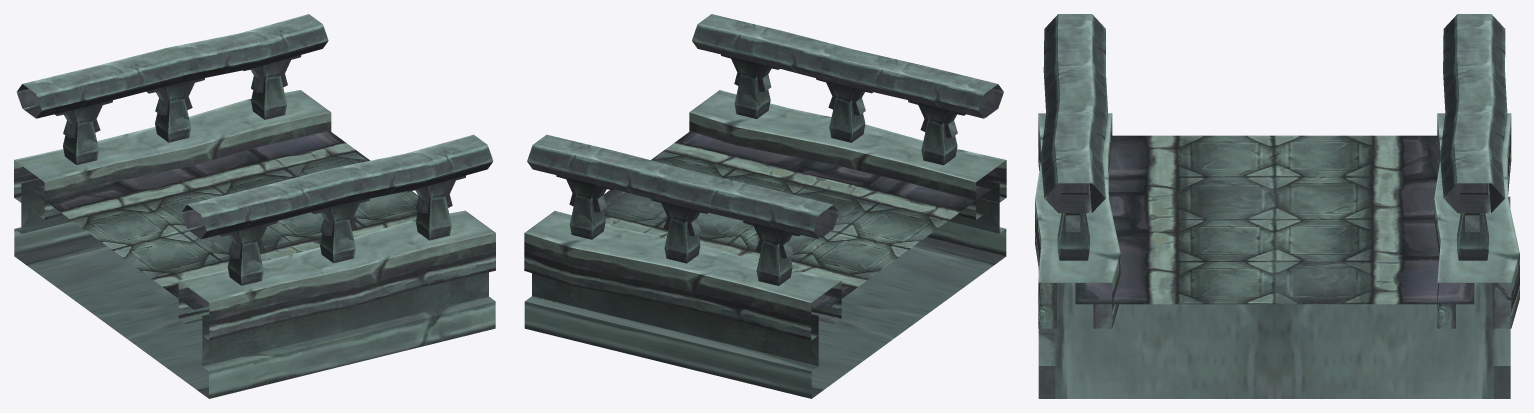
Rendered from crypt_bridge_straight_02.fbx.
3 renders of one model, left to right at view 1: azimuth 30°, elevation 25°; view 2: azimuth 150°, elevation 25°; view 3: azimuth 270°, elevation 25°, orthographic. The views are drawn at different scales.
Visible parts, largest first — view 1: crypt_bridge_straight_02-0; view 2: crypt_bridge_straight_02-0; view 3: crypt_bridge_straight_02-0.
Boxes of the visible parts, x1,y1,x2,y2 form: crypt_bridge_straight_02-0: [14, 14, 495, 398]; crypt_bridge_straight_02-0: [524, 14, 1006, 398]; crypt_bridge_straight_02-0: [1035, 14, 1519, 398].
Bounding box in the file's own units: 4.02 × 2.39 × 4.86.
